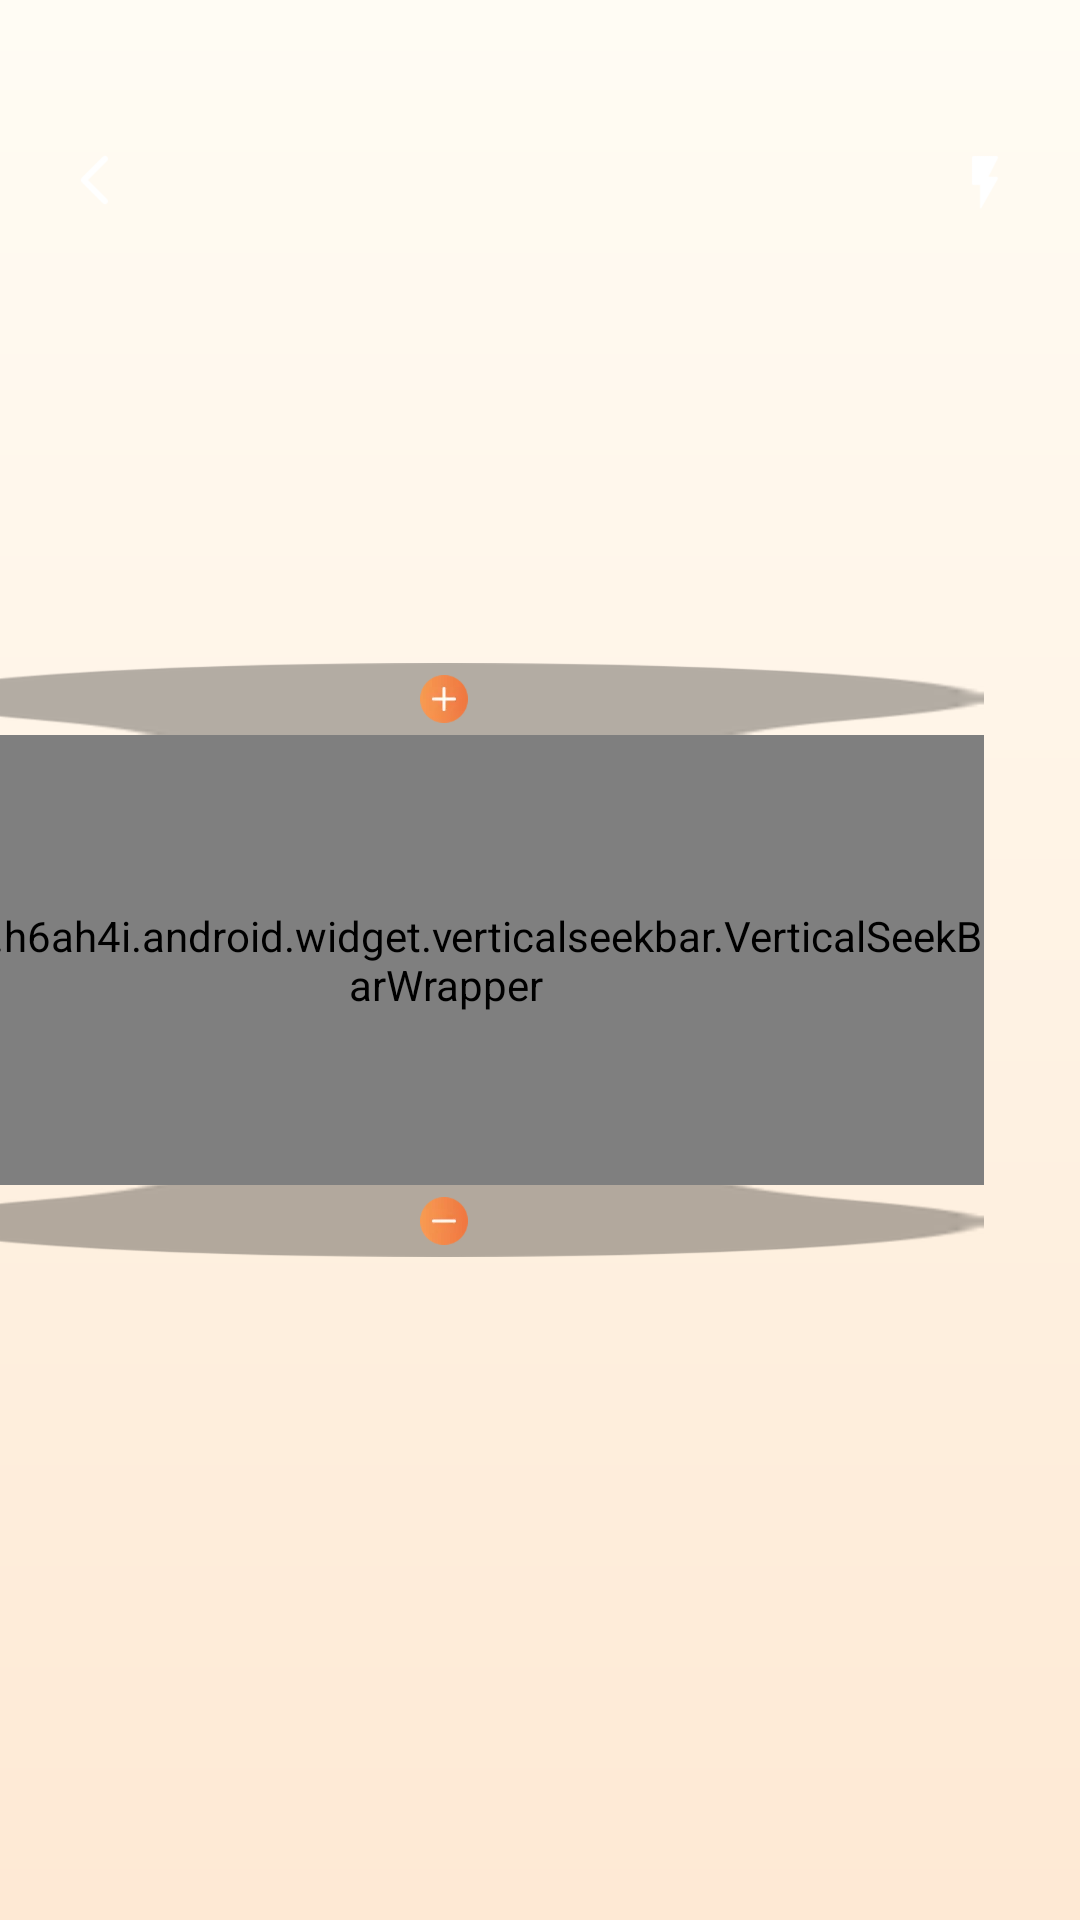

Icons on this 1080 x 1920 Android screen, each with its box as (x1, y1, x2, y2):
add: (420, 675, 468, 723)
reduce: (420, 1197, 468, 1245)
